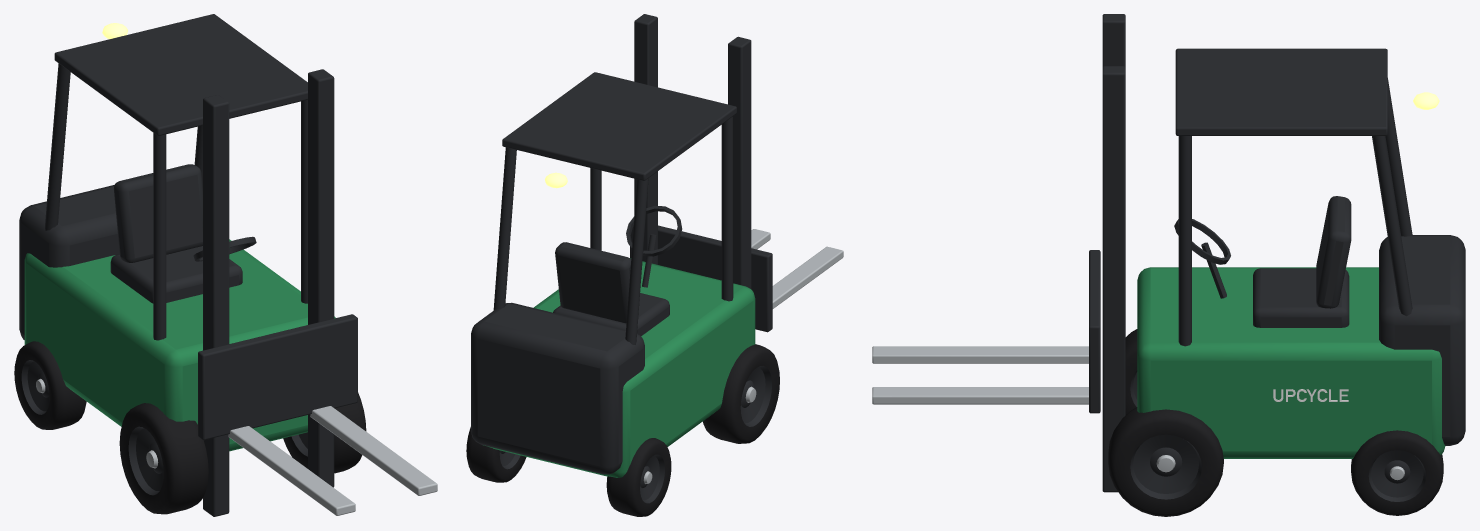
Rendered from forklift.fbx.
3 views of the same model, side by side, from view 1: azimuth 30°, elevation 25°; view 2: azimuth 150°, elevation 25°; view 3: azimuth 270°, elevation 25° (orthographic). The views are drawn at different scales.
Parts seen in each view (by area): view 1: forklift; view 2: forklift; view 3: forklift.
Boxes of the visible parts, x1,y1,x2,y2 form: forklift: (14,14,437,516); forklift: (466,14,843,516); forklift: (872,14,1465,516).
Bounding box in the file's own units: 1.2 × 2.45 × 3.08.
